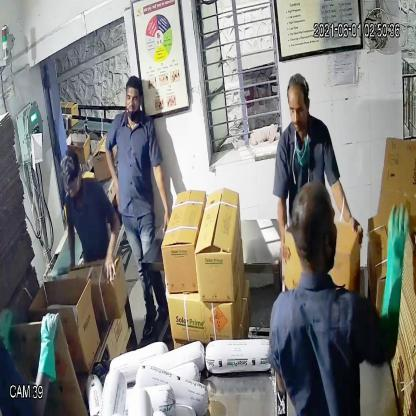goggles: (58, 172, 86, 201)
no_goggles: (286, 95, 310, 122), (119, 89, 146, 110)
